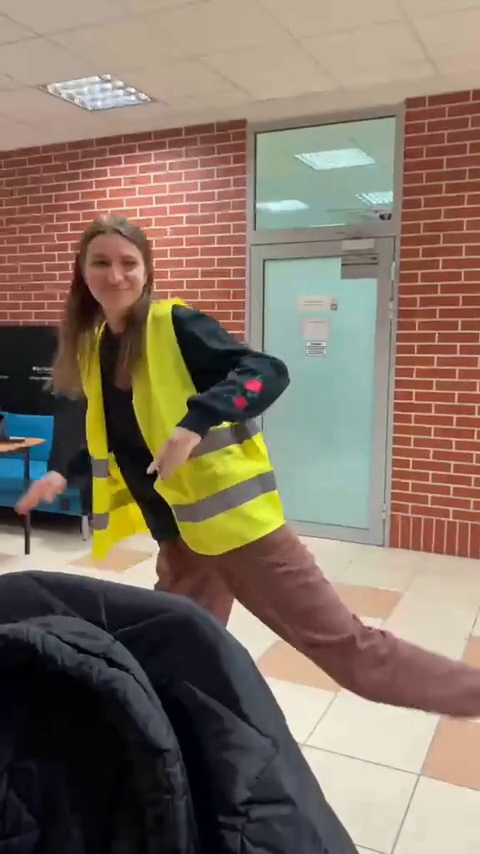vest: (69, 217, 369, 709)
